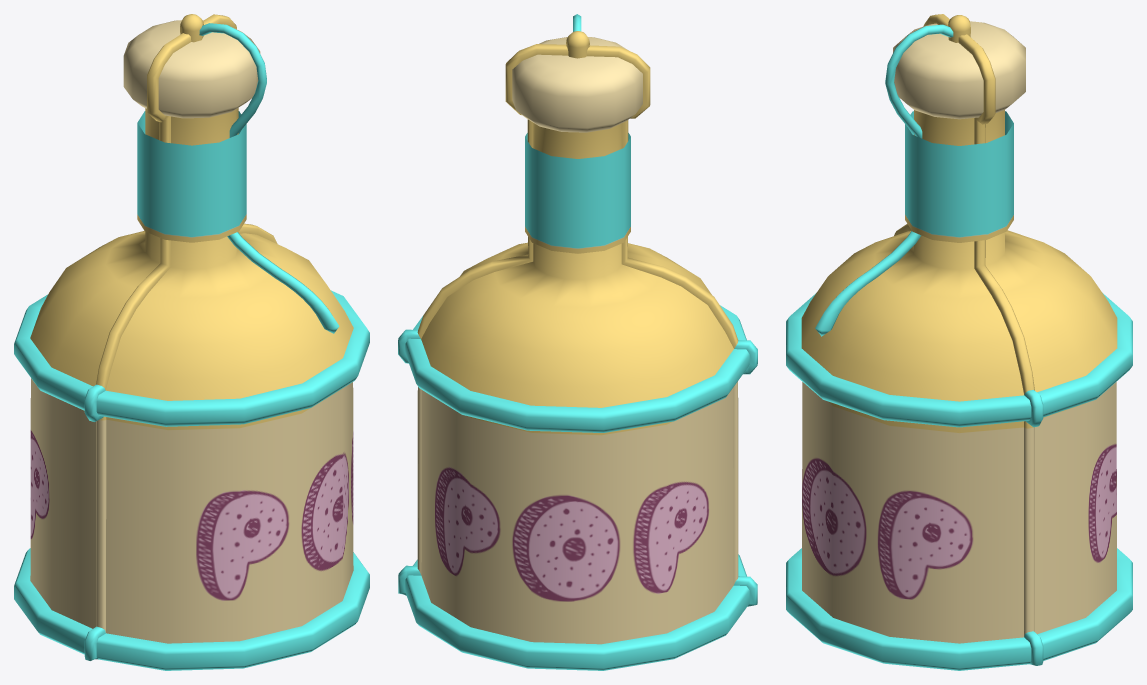
Rendered from PartyPopper_Trial_02.fbx.
3 renders of one model, left to right at view 1: azimuth 30°, elevation 25°; view 2: azimuth 150°, elevation 25°; view 3: azimuth 270°, elevation 25°, orthographic. The views are drawn at different scales.
Visible parts, largest first — view 1: PartyPopper1; view 2: PartyPopper1; view 3: PartyPopper1.
Boxes of the visible parts, x1,y1,x2,y2 form: PartyPopper1: [14, 14, 369, 670]; PartyPopper1: [398, 14, 757, 670]; PartyPopper1: [786, 14, 1132, 670].
Size of the model in its own units: 29.11 by 52.49 by 28.38.
Materials: 1 (1 with a texture image).
